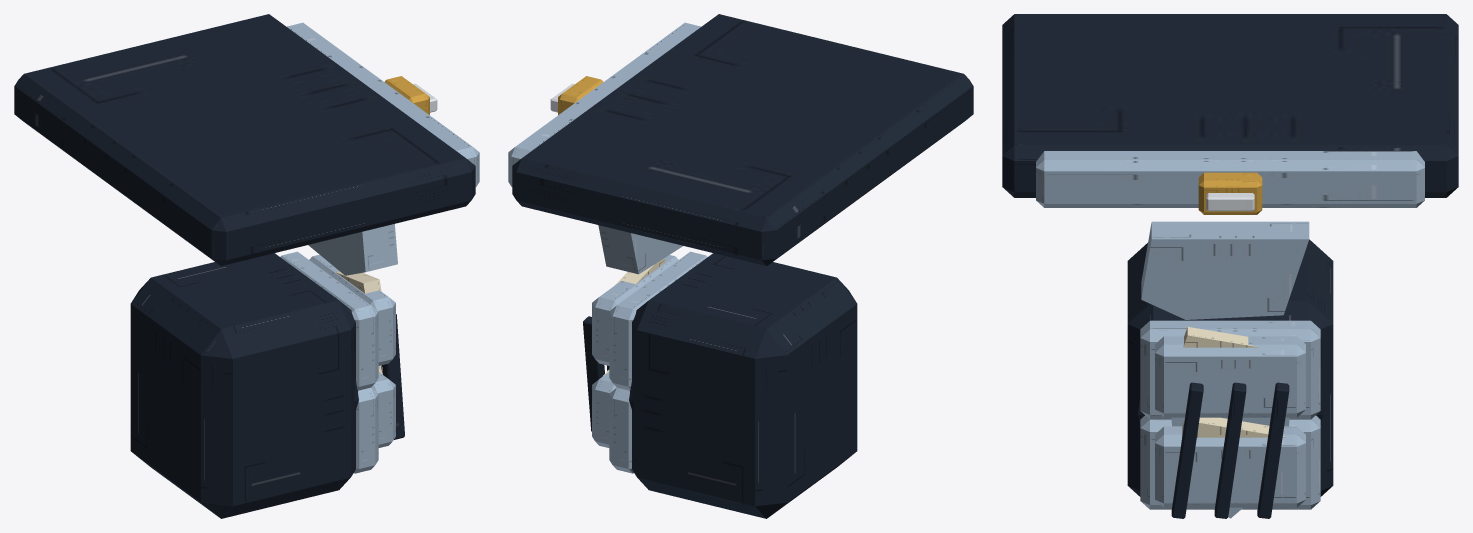
File: wolver.glb
3 views of the same model, side by side, from view 1: azimuth 30°, elevation 25°; view 2: azimuth 150°, elevation 25°; view 3: azimuth 270°, elevation 25° (orthographic). The views are drawn at different scales.
Parts seen in each view (by area): view 1: hips, leg_L, shin_L; view 2: hips, leg_L, shin_L; view 3: hips, leg_L, shin_L.
Boxes of the visible parts, box(x1,y1,x2,y2) form: hips: box(14, 14, 479, 265); leg_L: box(130, 251, 404, 518); shin_L: box(308, 224, 397, 411); hips: box(508, 14, 973, 265); leg_L: box(583, 251, 857, 518); shin_L: box(598, 225, 682, 411); hips: box(1002, 14, 1458, 214); leg_L: box(1127, 239, 1333, 518); shin_L: box(1138, 221, 1322, 518).
Size of the model in its own units: 0.232 by 0.256 by 0.266.
5 materials, 5 textured.
